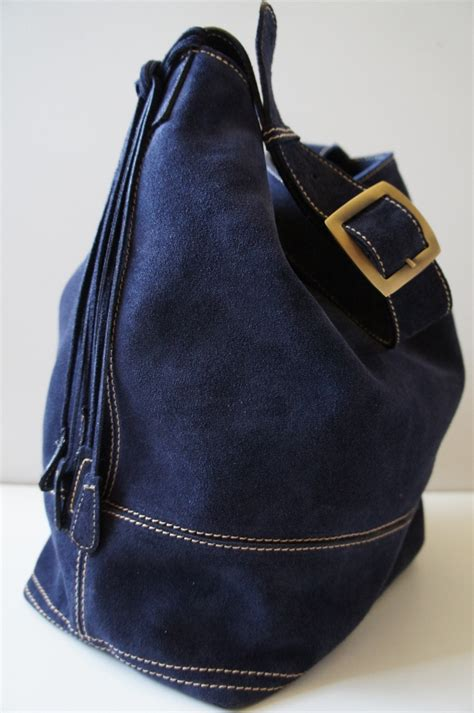gamuza: (19, 28, 467, 713)
